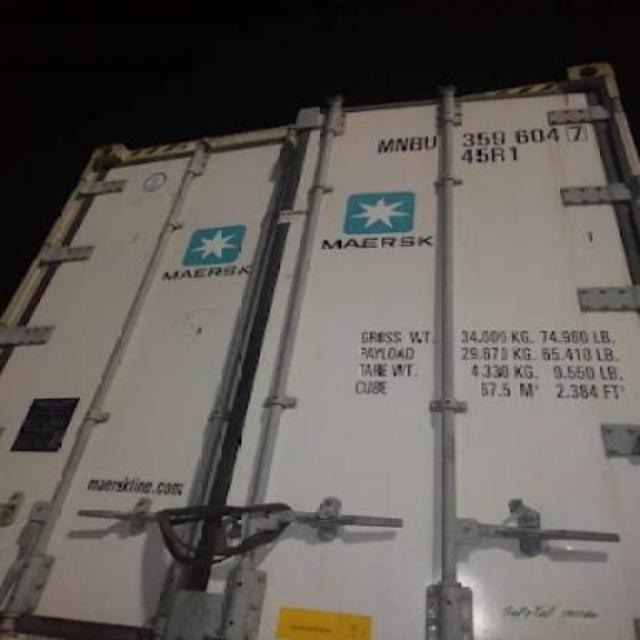0: (530, 122, 544, 148)
3: (458, 122, 474, 150)
4: (544, 122, 560, 146)
5: (474, 125, 492, 148)
6: (512, 122, 528, 148)
7: (564, 122, 592, 146)
9: (492, 126, 506, 150)
B: (408, 128, 422, 156)
M: (376, 128, 394, 158)
N: (394, 129, 408, 159)
U: (420, 130, 440, 158)
